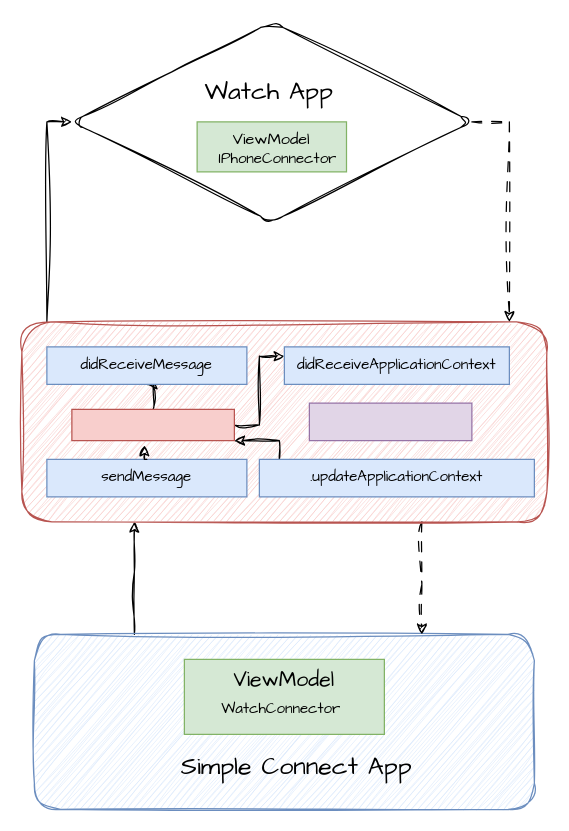
Some shapes in this 569 by 831 pixel diagram are drawn without their labels. Here are the shapes that lost their labels. From the top down, the centre of each, then its label:
At (152,424): "WCSession".
At (390,421): "FileManager".
